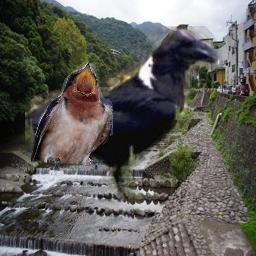Crow: (25, 26, 222, 201)
Swallow: (31, 62, 113, 171)
